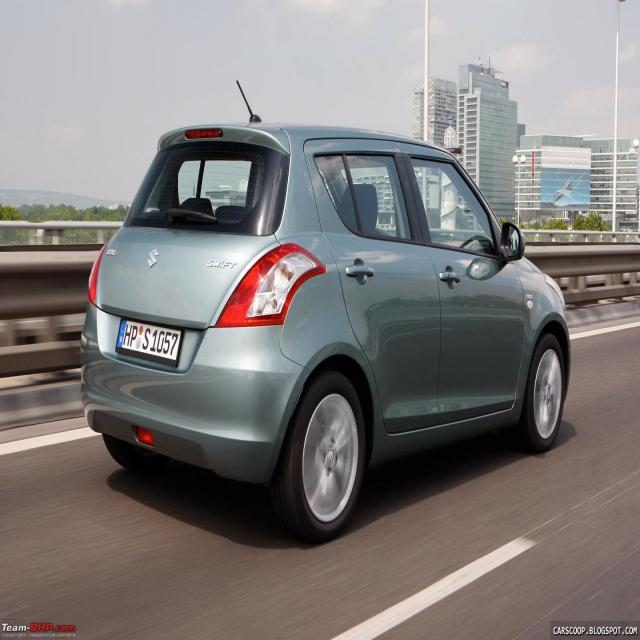Number-Plate: (115, 315, 182, 362)
